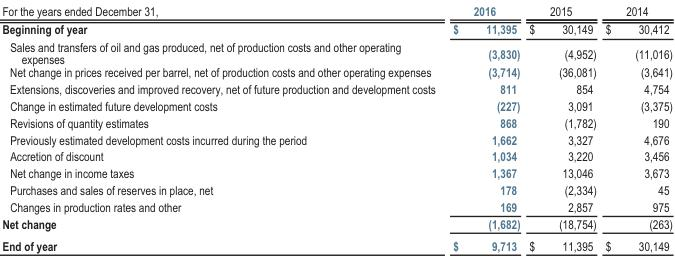table: (1, 0, 671, 253)
table column: (1, 0, 443, 253), (443, 0, 524, 253), (524, 0, 600, 253), (600, 0, 671, 253)
table column header: (1, 0, 671, 18)
table row: (1, 36, 671, 64), (1, 233, 671, 253), (1, 214, 671, 233), (1, 0, 671, 18), (1, 18, 671, 36), (1, 79, 671, 96), (1, 96, 671, 113), (1, 113, 671, 130), (1, 130, 671, 147), (1, 163, 671, 180), (1, 180, 671, 197), (1, 197, 671, 214), (1, 147, 671, 163), (1, 64, 671, 79)
